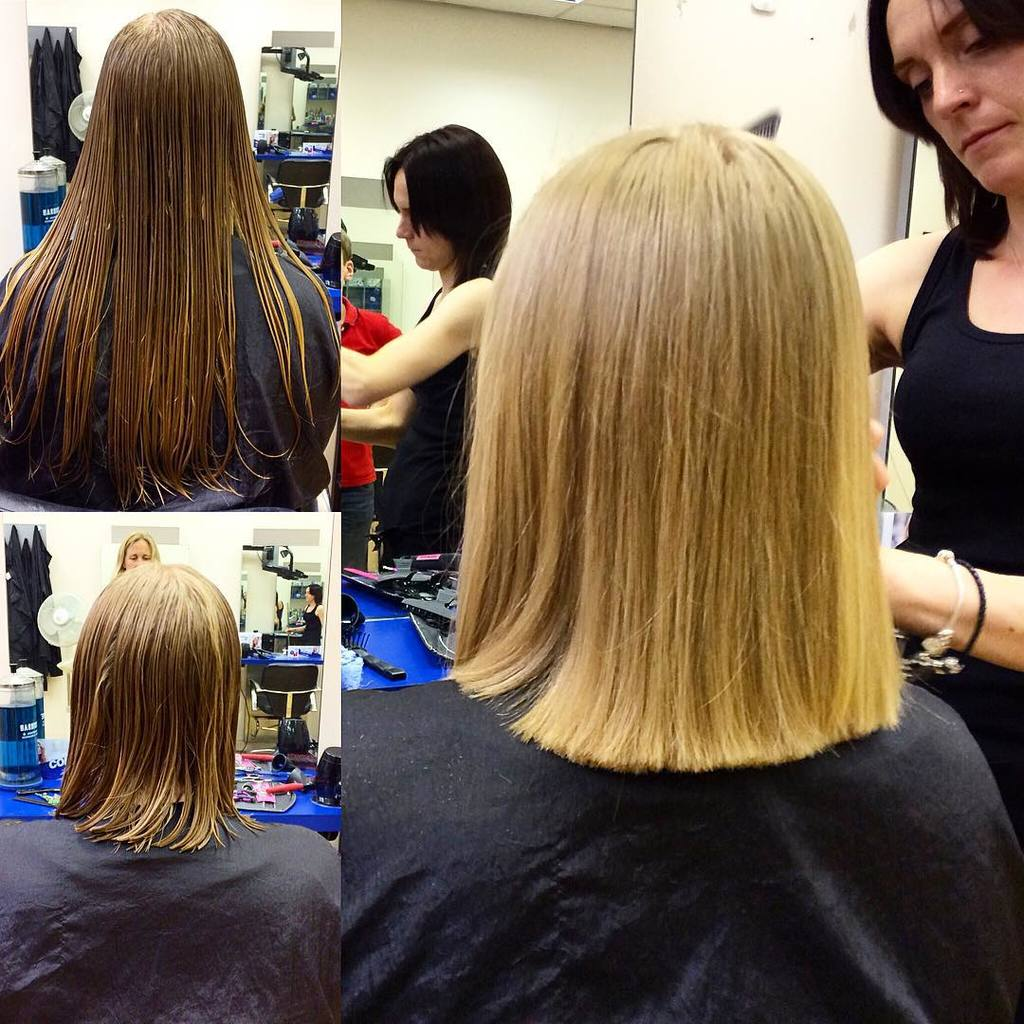face: (124, 538, 156, 578)
